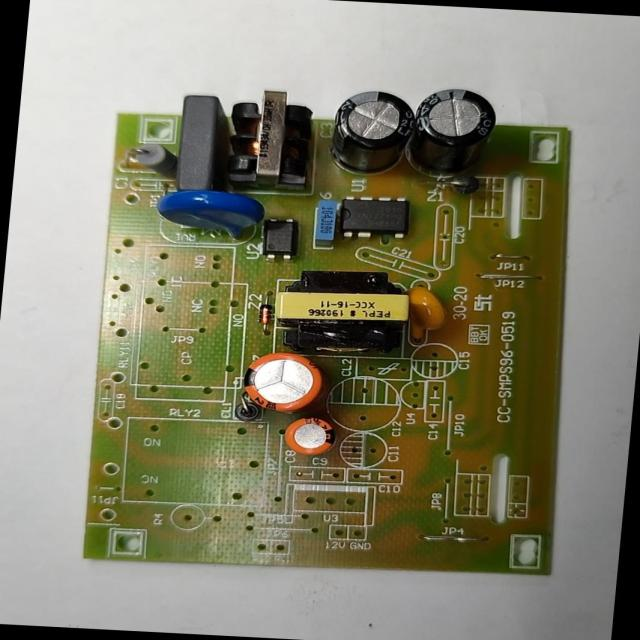Cap1: (239, 349, 326, 416)
Cap2: (280, 414, 340, 458)
Cap3: (328, 86, 416, 180)
Cap4: (410, 84, 498, 180)
MOSFET: (335, 194, 412, 242)
Mov: (152, 186, 265, 244)
Resistor: (128, 140, 179, 181)
Transformer: (270, 267, 411, 356), (220, 84, 318, 188)
